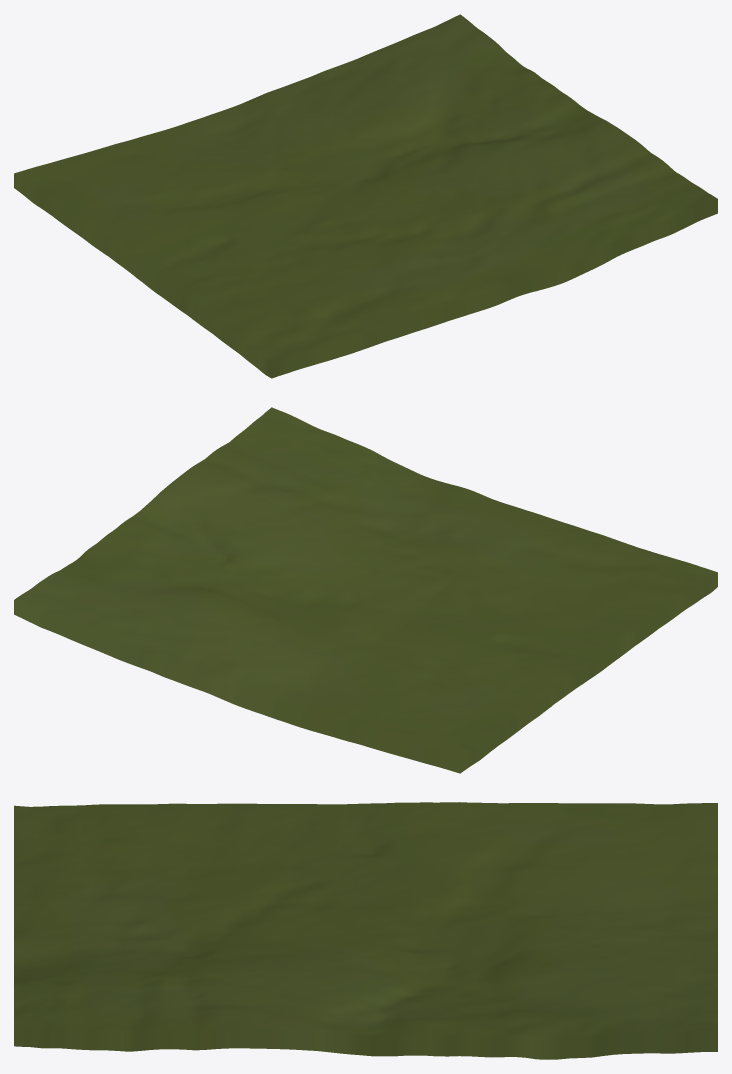
File: terrain_1_0.glb
3 views of the same model, one above another, from view 1: azimuth 30°, elevation 25°; view 2: azimuth 150°, elevation 25°; view 3: azimuth 270°, elevation 25° (orthographic). The views are drawn at different scales.
Parts seen in each view (by area): view 1: terrain_1_0; view 2: terrain_1_0; view 3: terrain_1_0.
Boxes of the visible parts, box(x1,y1,x2,y2) form: terrain_1_0: box(14, 14, 717, 378); terrain_1_0: box(14, 407, 717, 773); terrain_1_0: box(14, 802, 717, 1059).
Size of the model in its own units: 256 by 39.29 by 256.
